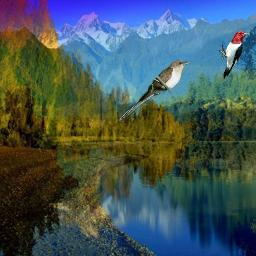Cuckoo: (116, 59, 192, 124)
Woodpecker: (218, 31, 250, 82)
